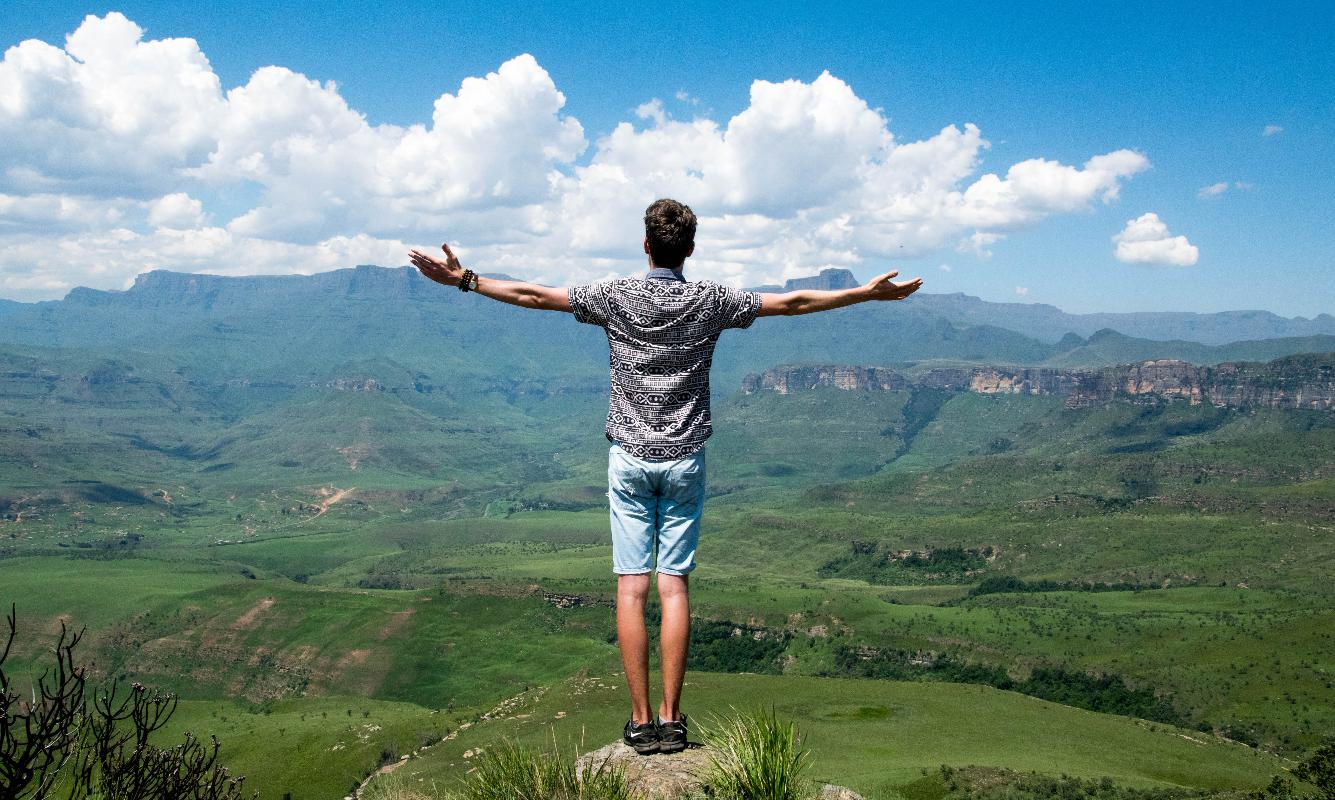Person: (397, 202, 933, 758)
